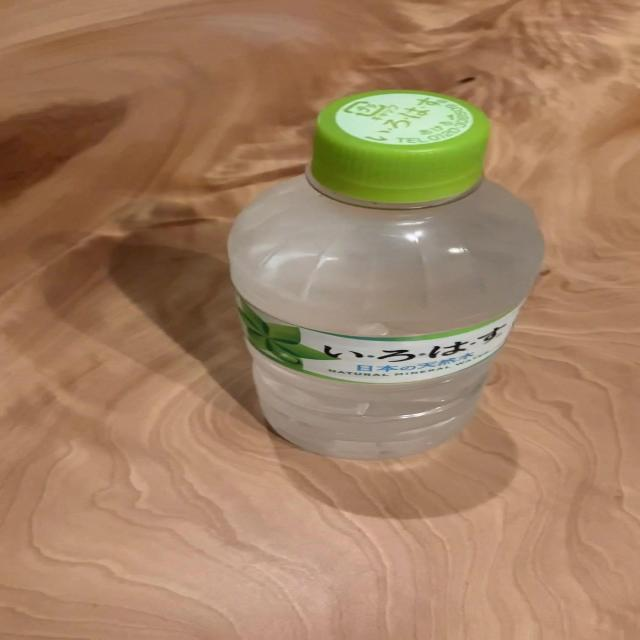good: (225, 89, 548, 462)
